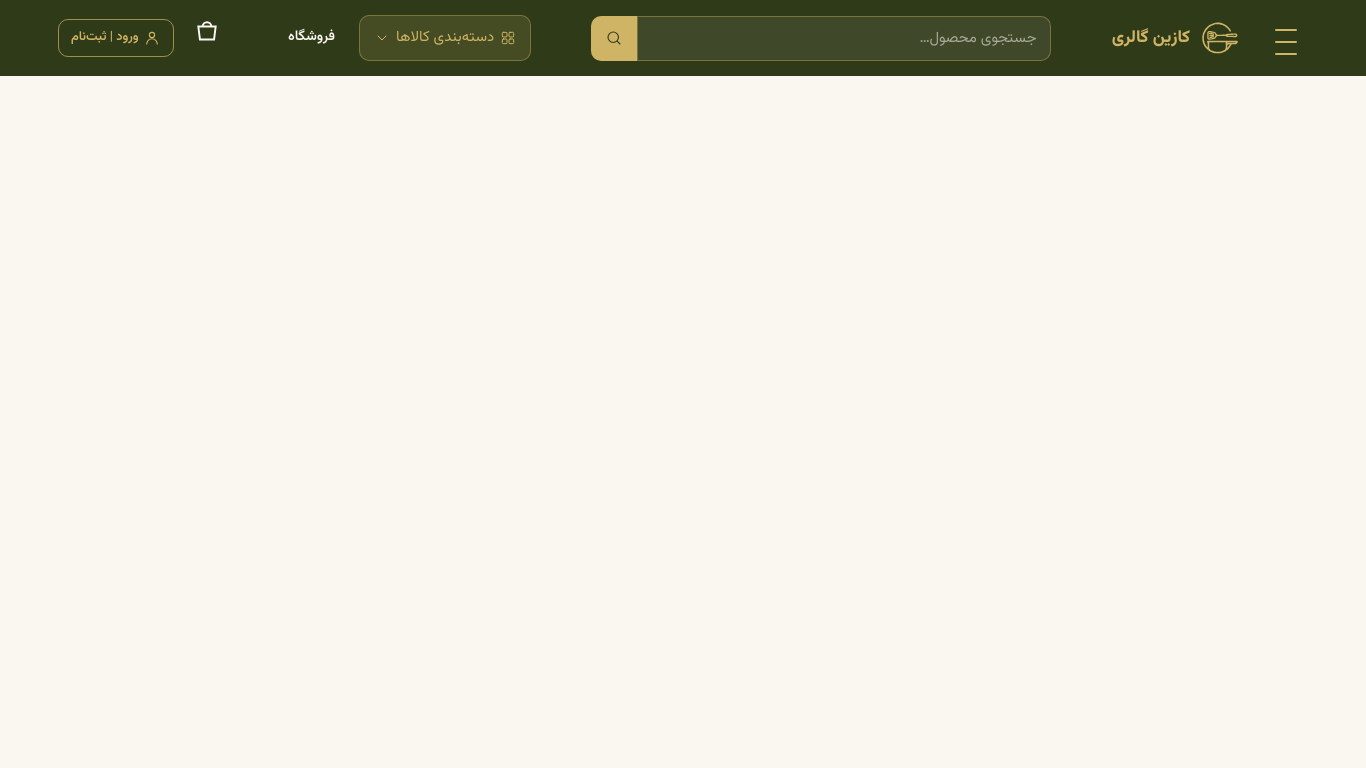
it: mega menu › opens the real root's groups even when its slug is kitchen-root
Click the button "دسته‌بندی کالاها".
click(445, 38)  # box [359,15,531,61]
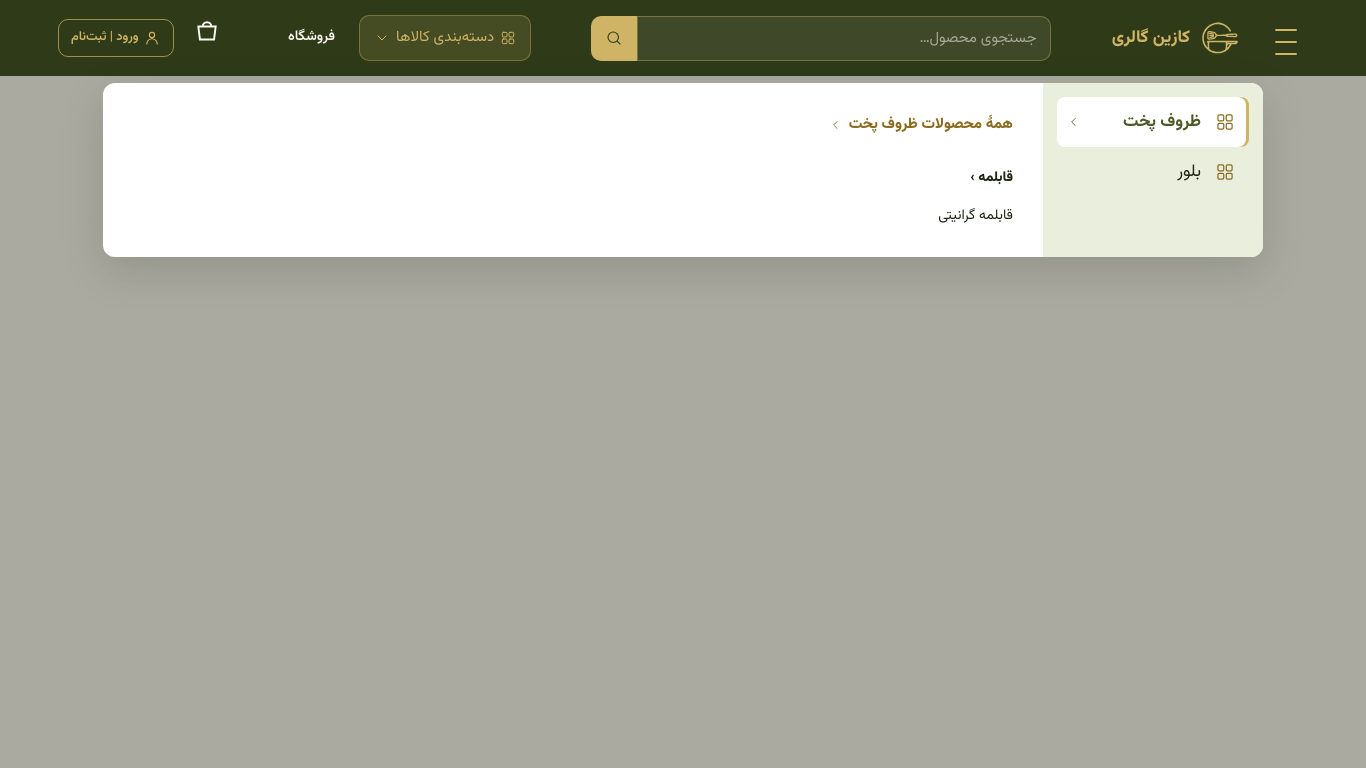
Check: the element with class "mega-menu" is shown, box [103,75,1263,257]
Check: the buttons read "ظروف پخت", "بلور", in this order, box [1057,97,1249,147]; [1057,147,1249,198]
